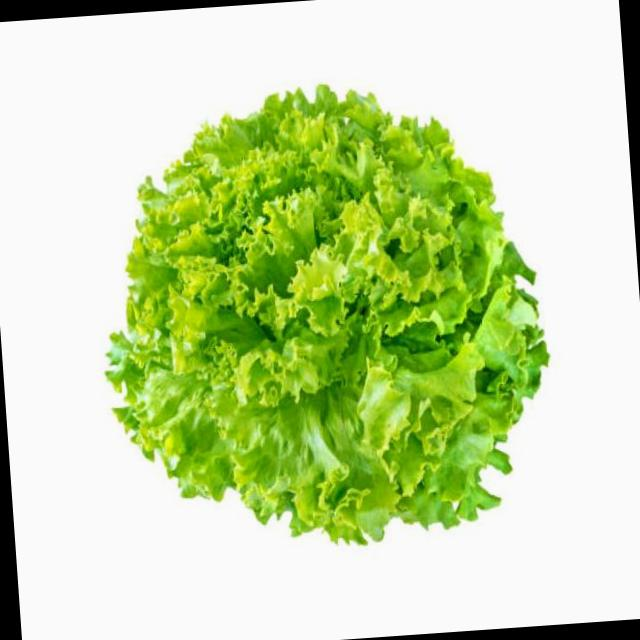Lettuce-Ready-to-Harvest: (109, 86, 547, 542)
